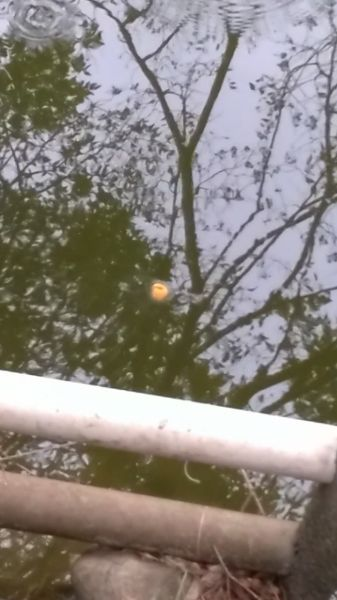eggs: (146, 275, 171, 307)
